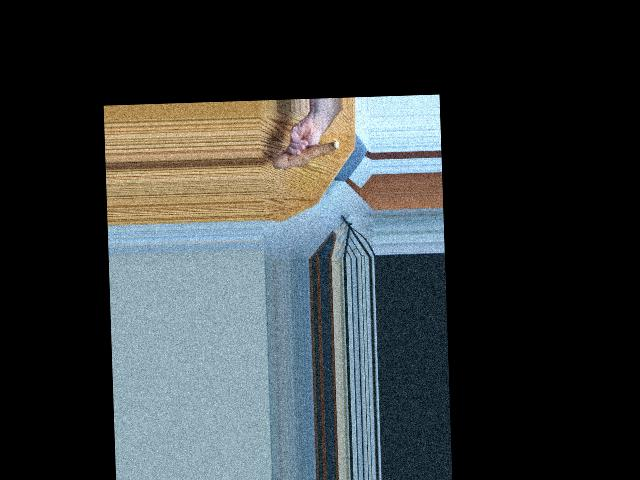sweet_potato: (273, 140, 341, 171)
